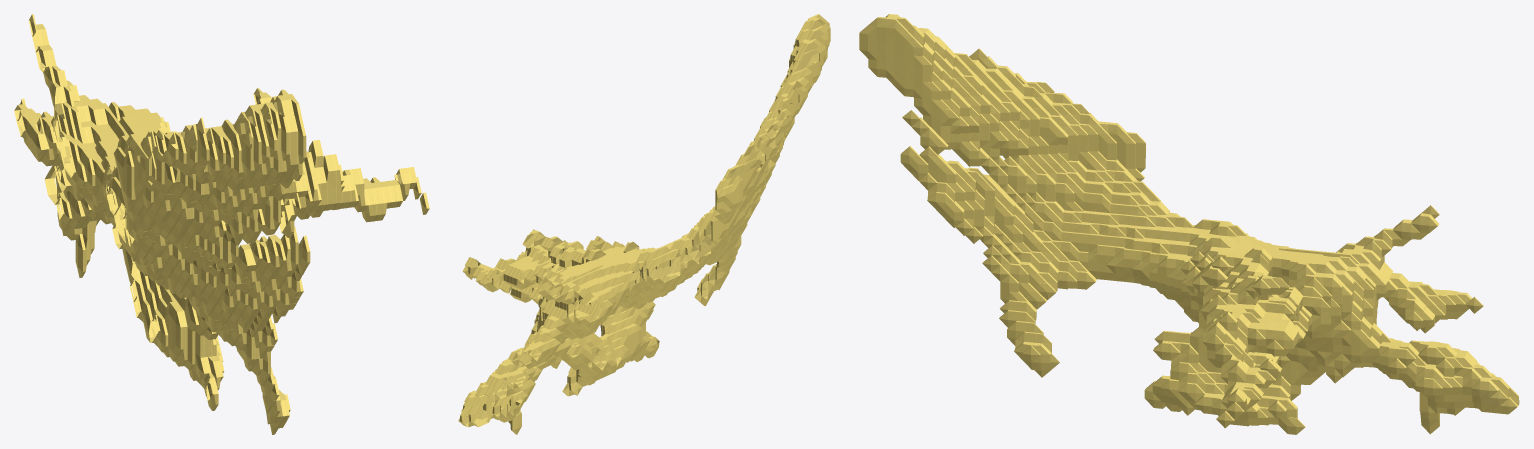
File: SVV_BWM-DR06.gltf
The picture shows the model from 3 angles, left to right: view 1: azimuth 30°, elevation 25°; view 2: azimuth 150°, elevation 25°; view 3: azimuth 270°, elevation 25°; orthographic projection. The views are drawn at different scales.
Visible parts, largest first — view 1: BWM-DR06; view 2: BWM-DR06; view 3: BWM-DR06.
Part boxes in pixels (bbox=[...]): BWM-DR06: bbox=[14, 14, 429, 434]; BWM-DR06: bbox=[458, 14, 830, 434]; BWM-DR06: bbox=[859, 14, 1519, 434].
Bounding box in the file's own units: 24701 × 28360 × 46817.
